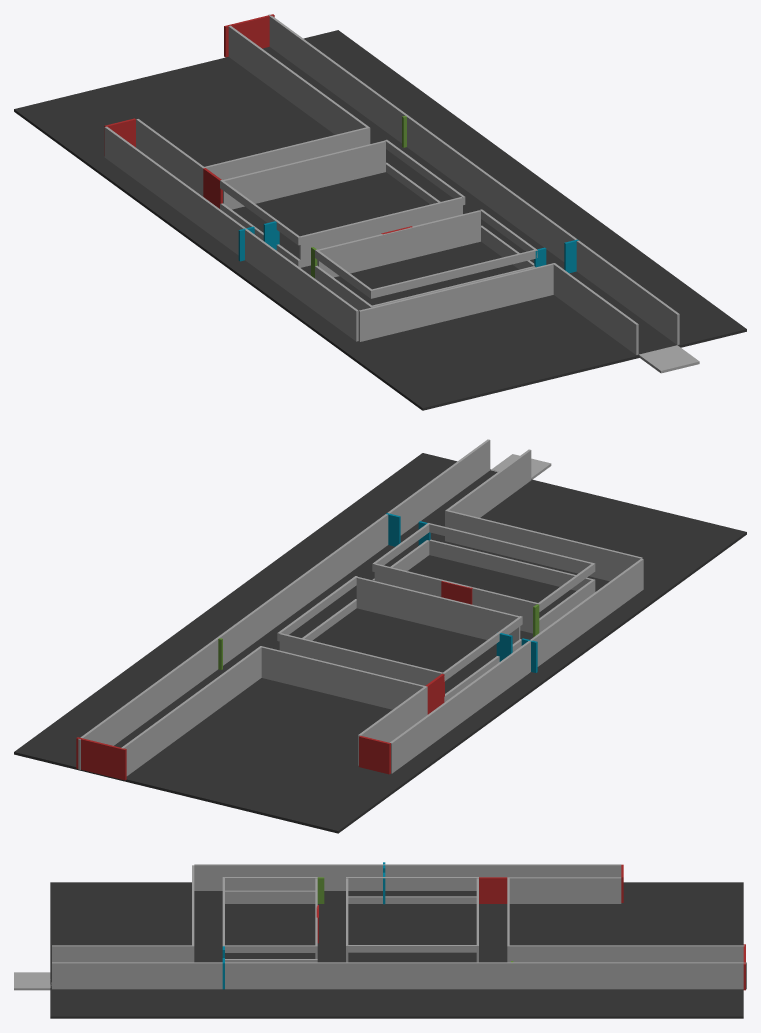
The model's file is Level1BlockoutTest.fbx.
3 views of the same model, one above another, from view 1: azimuth 30°, elevation 25°; view 2: azimuth 150°, elevation 25°; view 3: azimuth 270°, elevation 25° (orthographic). The views are drawn at different scales.
Visible parts, largest first — view 1: pCube45, pCube33, pCube4, pCube30, pCube26, pCube34, pCube2, pCube25, pCube8, pCube3, pCube32, pCube21 (+10 smaller); view 2: pCube45, pCube33, pCube25, pCube32, pCube34, pCube4, pCube2, pCube30, pCube8, pCube21, pCube18, pCube26 (+10 smaller); view 3: pCube45, pCube33, pCube2, pCube34, pCube8, pCube20, pCube18, pCube3, pCube21, pCube28, pCube9, pCube39 (+7 smaller).
Part boxes in pixels (<box>): pCube45: <box>14,30,746,410</box>; pCube33: <box>268,14,538,241</box>; pCube4: <box>358,263,553,341</box>; pCube30: <box>223,140,385,209</box>; pCube26: <box>317,210,480,277</box>; pCube34: <box>228,25,370,144</box>; pCube2: <box>576,240,679,344</box>; pCube25: <box>299,197,462,267</box>; pCube8: <box>272,249,358,341</box>; pCube3: <box>553,263,638,354</box>; pCube32: <box>205,127,367,179</box>; pCube21: <box>104,126,190,218</box>; pCube45: <box>14,453,746,833</box>; pCube33: <box>78,542,348,769</box>; pCube25: <box>356,577,520,643</box>; pCube32: <box>261,646,424,709</box>; pCube34: <box>121,646,262,775</box>; pCube4: <box>447,510,642,581</box>; pCube2: <box>387,439,490,535</box>; pCube30: <box>279,633,442,685</box>; pCube8: <box>558,558,643,650</box>; pCube21: <box>390,681,475,773</box>; pCube18: <box>474,620,559,711</box>; pCube26: <box>374,563,537,633</box>; pCube45: <box>50,882,743,1018</box>; pCube33: <box>291,962,746,989</box>; pCube2: <box>52,962,222,989</box>; pCube34: <box>507,945,744,962</box>; pCube8: <box>194,864,336,890</box>; pCube20: <box>507,877,621,903</box>; pCube18: <box>336,864,478,890</box>; pCube3: <box>52,945,194,962</box>; pCube21: <box>479,864,621,877</box>; pCube28: <box>225,962,291,989</box>; pCube9: <box>225,890,315,903</box>; pCube39: <box>346,945,478,952</box>.
Bounding box in the file's own units: 3349 × 329 × 7725.
